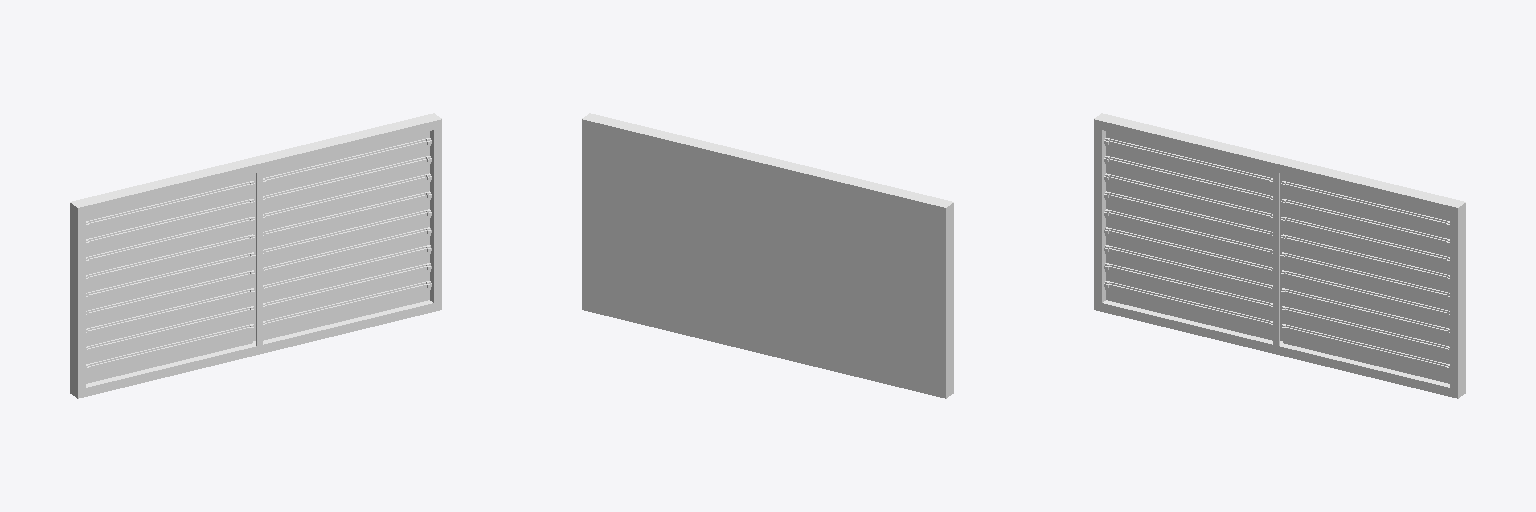
Rendered from JanelaFechada.obj.
3 renders of one model, left to right at view 1: azimuth 30°, elevation 25°; view 2: azimuth 150°, elevation 25°; view 3: azimuth 330°, elevation 25°, orthographic.
Parts seen in each view (by area): view 1: object 1; view 2: object 1; view 3: object 1.
Part boxes in pixels (left/top/right/bottom): object 1: left=70, top=113, right=441, bottom=398; object 1: left=582, top=113, right=953, bottom=398; object 1: left=1094, top=113, right=1465, bottom=398.
Bounding box in the file's own units: 25.6 × 12.8 × 1.